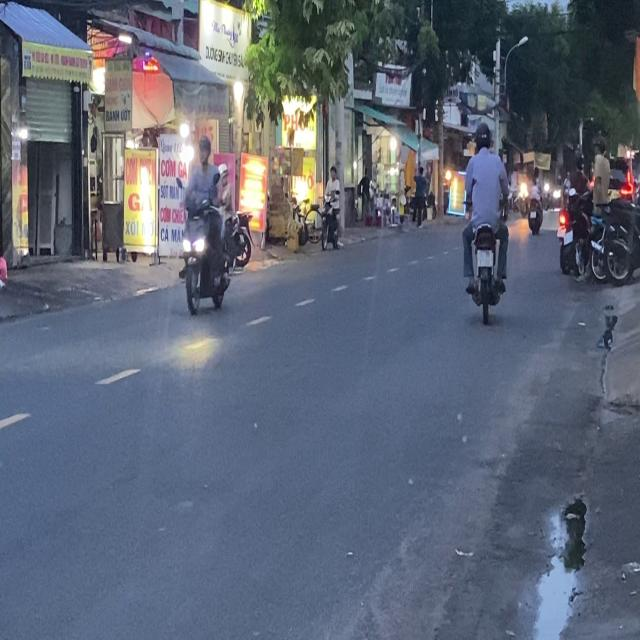helmet: (473, 117, 492, 150), (196, 133, 212, 163)
licenseplate: (459, 118, 510, 322), (177, 133, 232, 319)
nohelmet: (477, 250, 493, 266)
